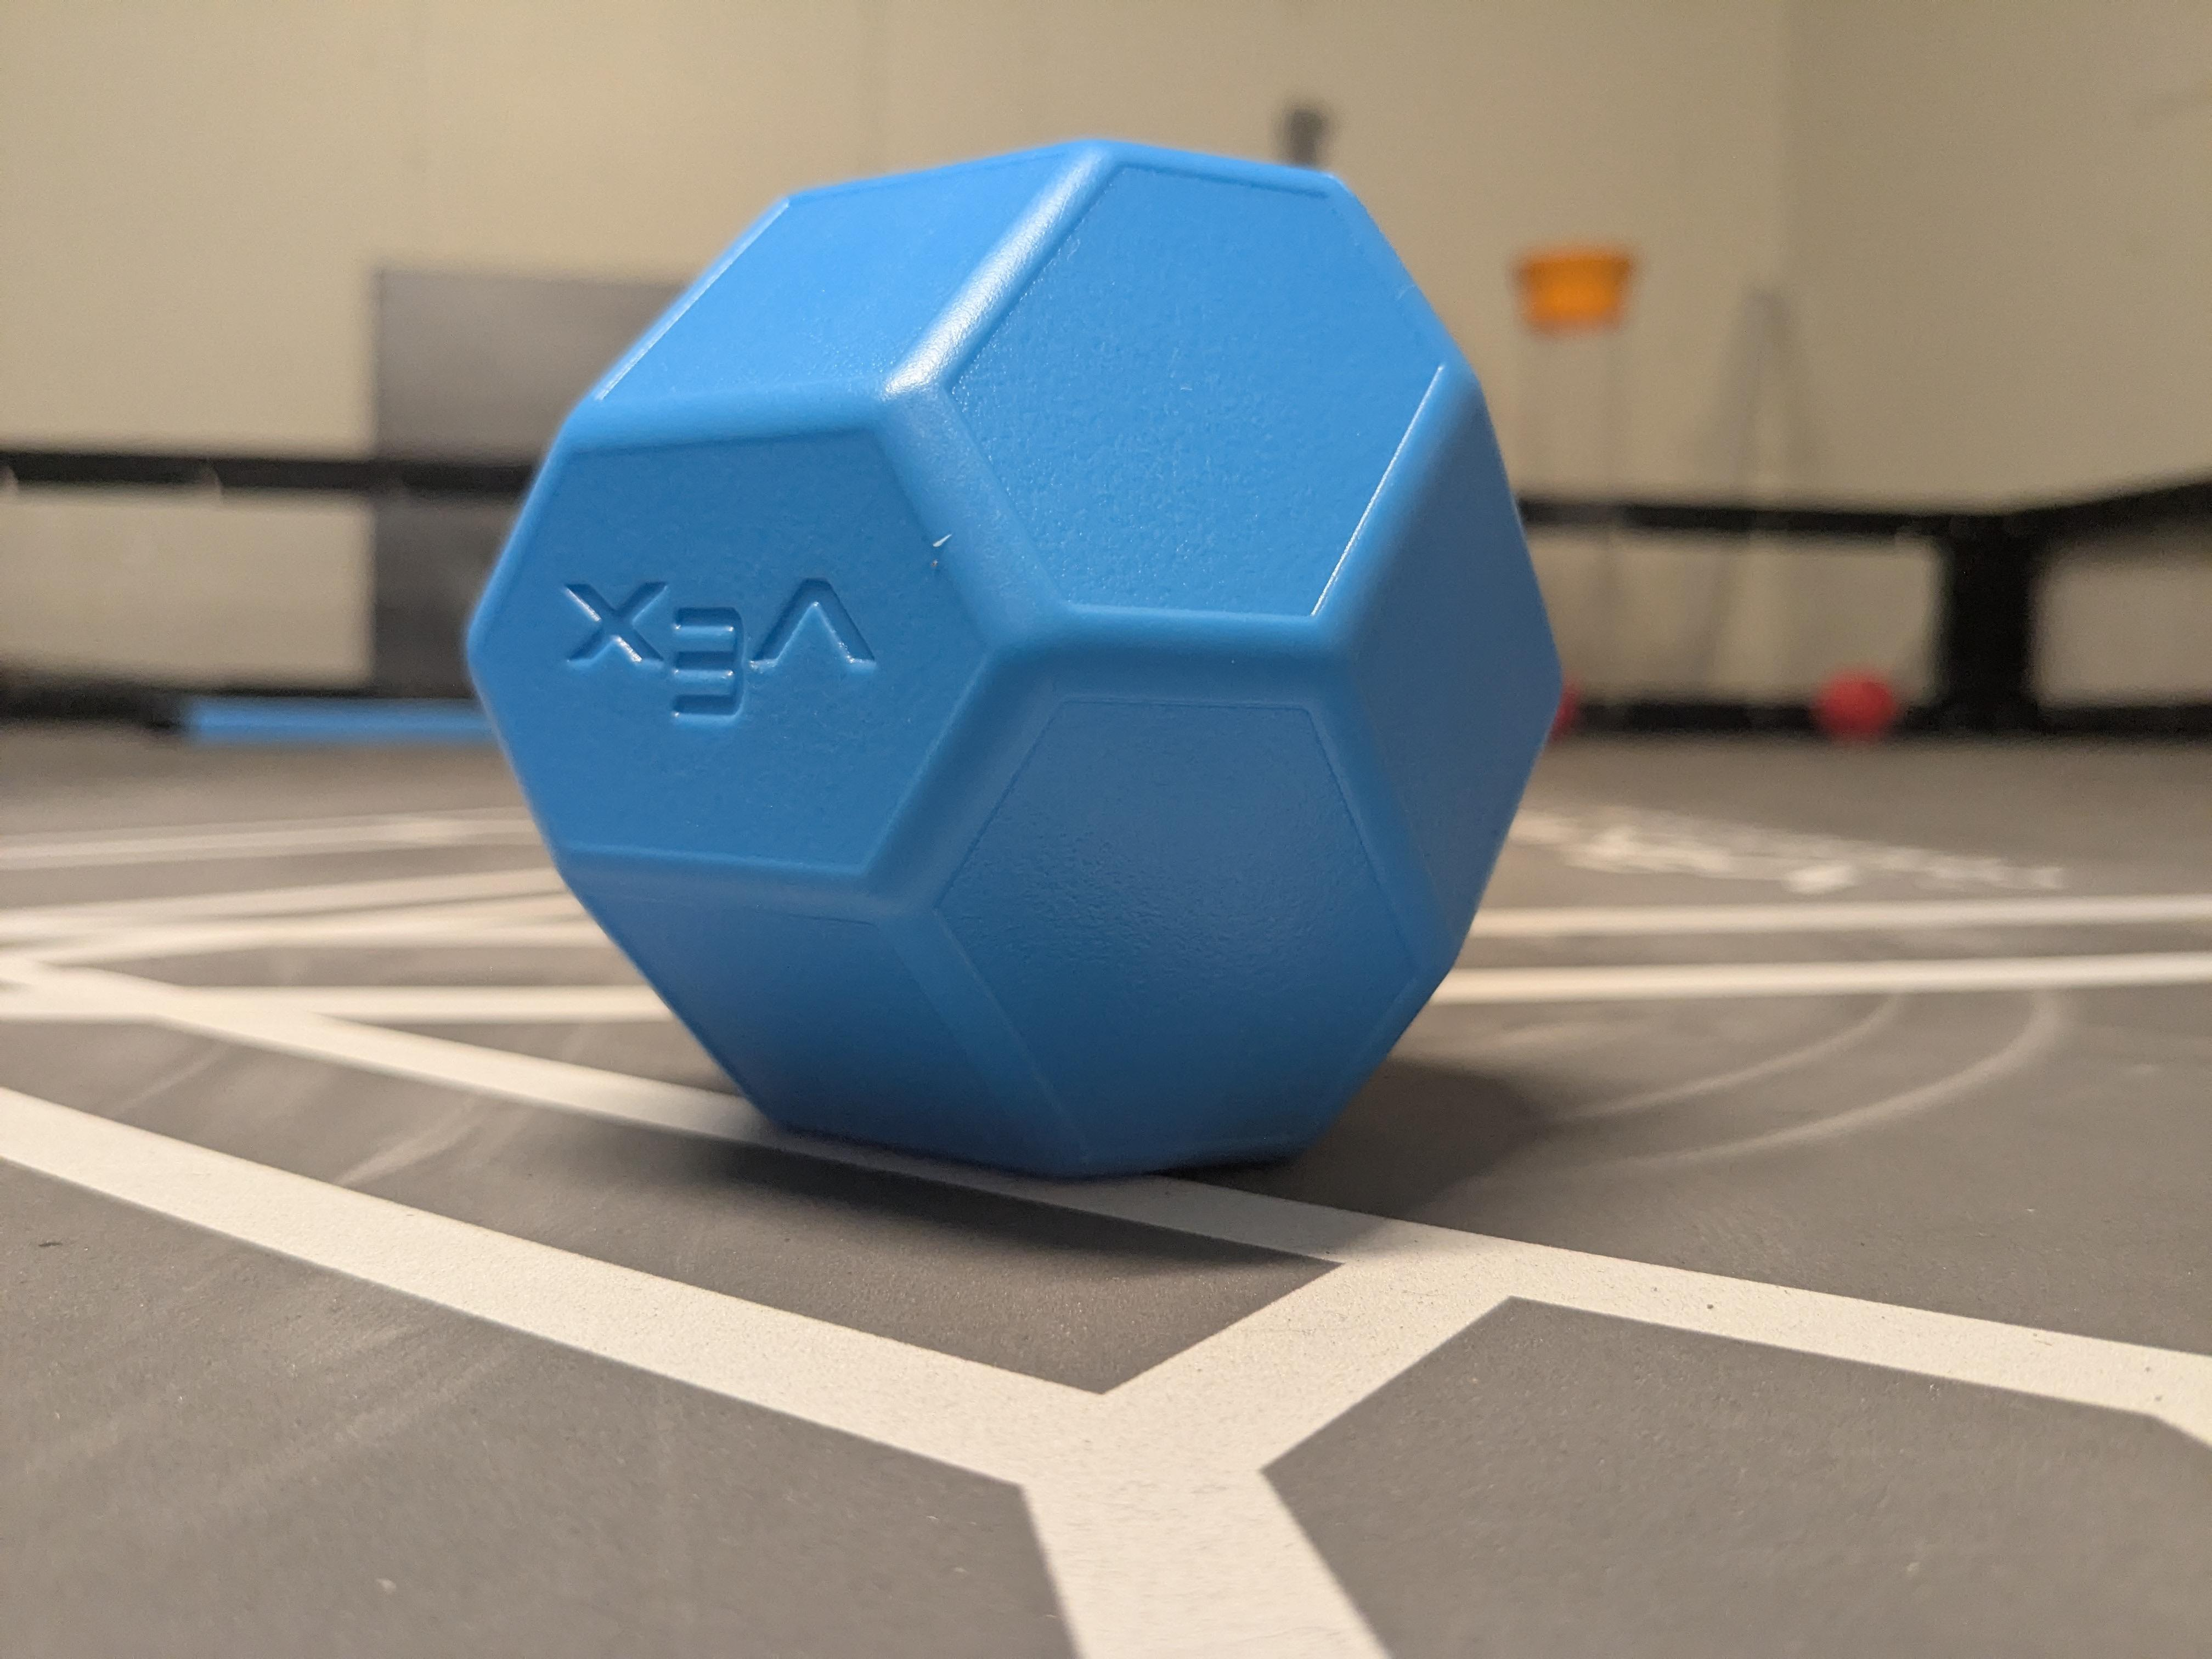Vex-Pieces-BLUE: (467, 141, 1557, 1175)
